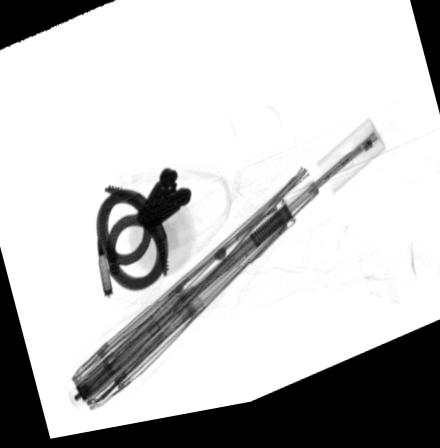Bullet: (96, 238, 111, 299)
HandCuffs: (94, 173, 191, 295)
